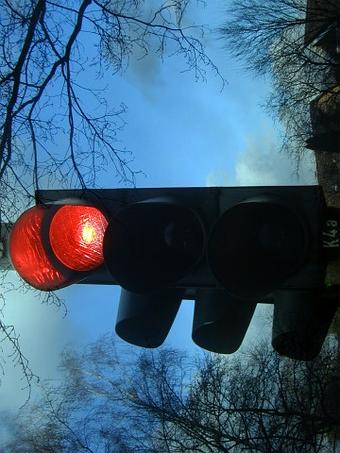trafic: (9, 196, 324, 289)
